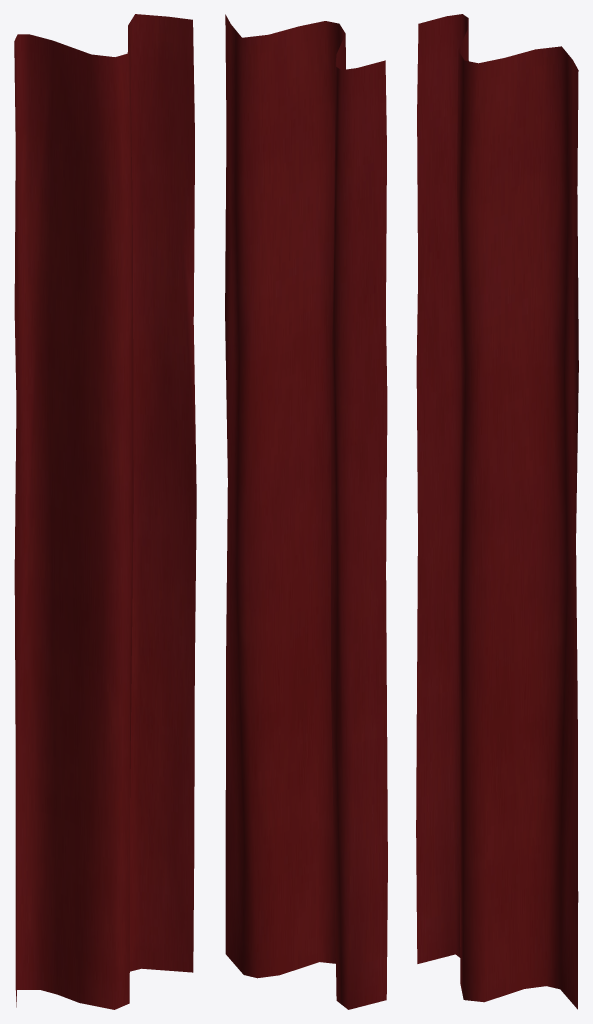
File: curtain_low.obj
The picture shows the model from 3 angles, left to right: view 1: azimuth 30°, elevation 25°; view 2: azimuth 150°, elevation 25°; view 3: azimuth 330°, elevation 25°; orthographic projection.
Parts seen in each view (by area): view 1: Plane.001; view 2: Plane.001; view 3: Plane.001.
Part boxes in pixels (x1,y1,x2,y2): Plane.001: (14, 14, 196, 1009); Plane.001: (225, 14, 387, 1009); Plane.001: (416, 14, 578, 1009).
Bounding box in the file's own units: 1.16 × 6.16 × 0.6067.
